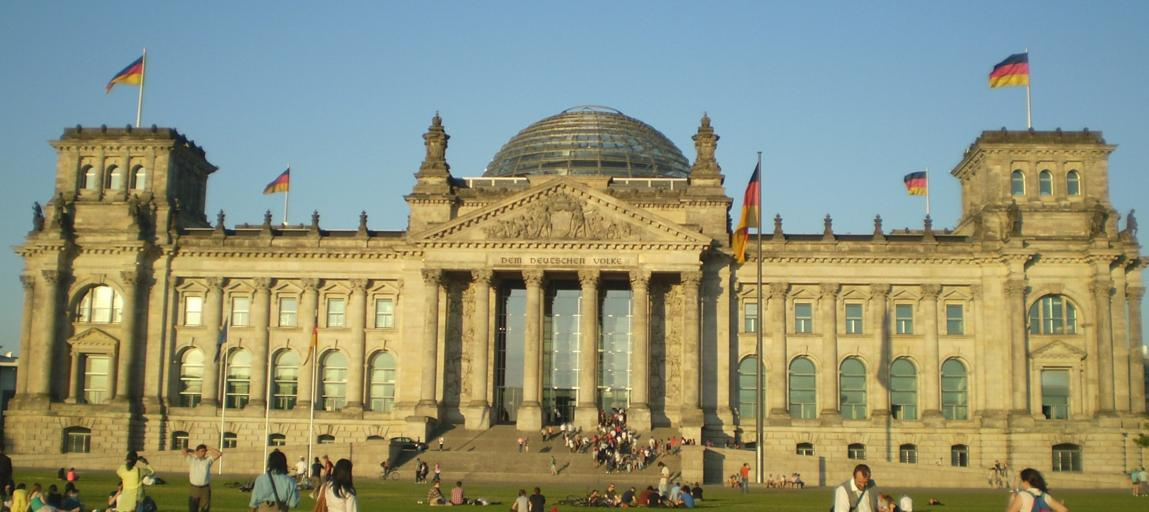non-vehicle: (555, 494, 593, 509), (376, 465, 404, 480)
